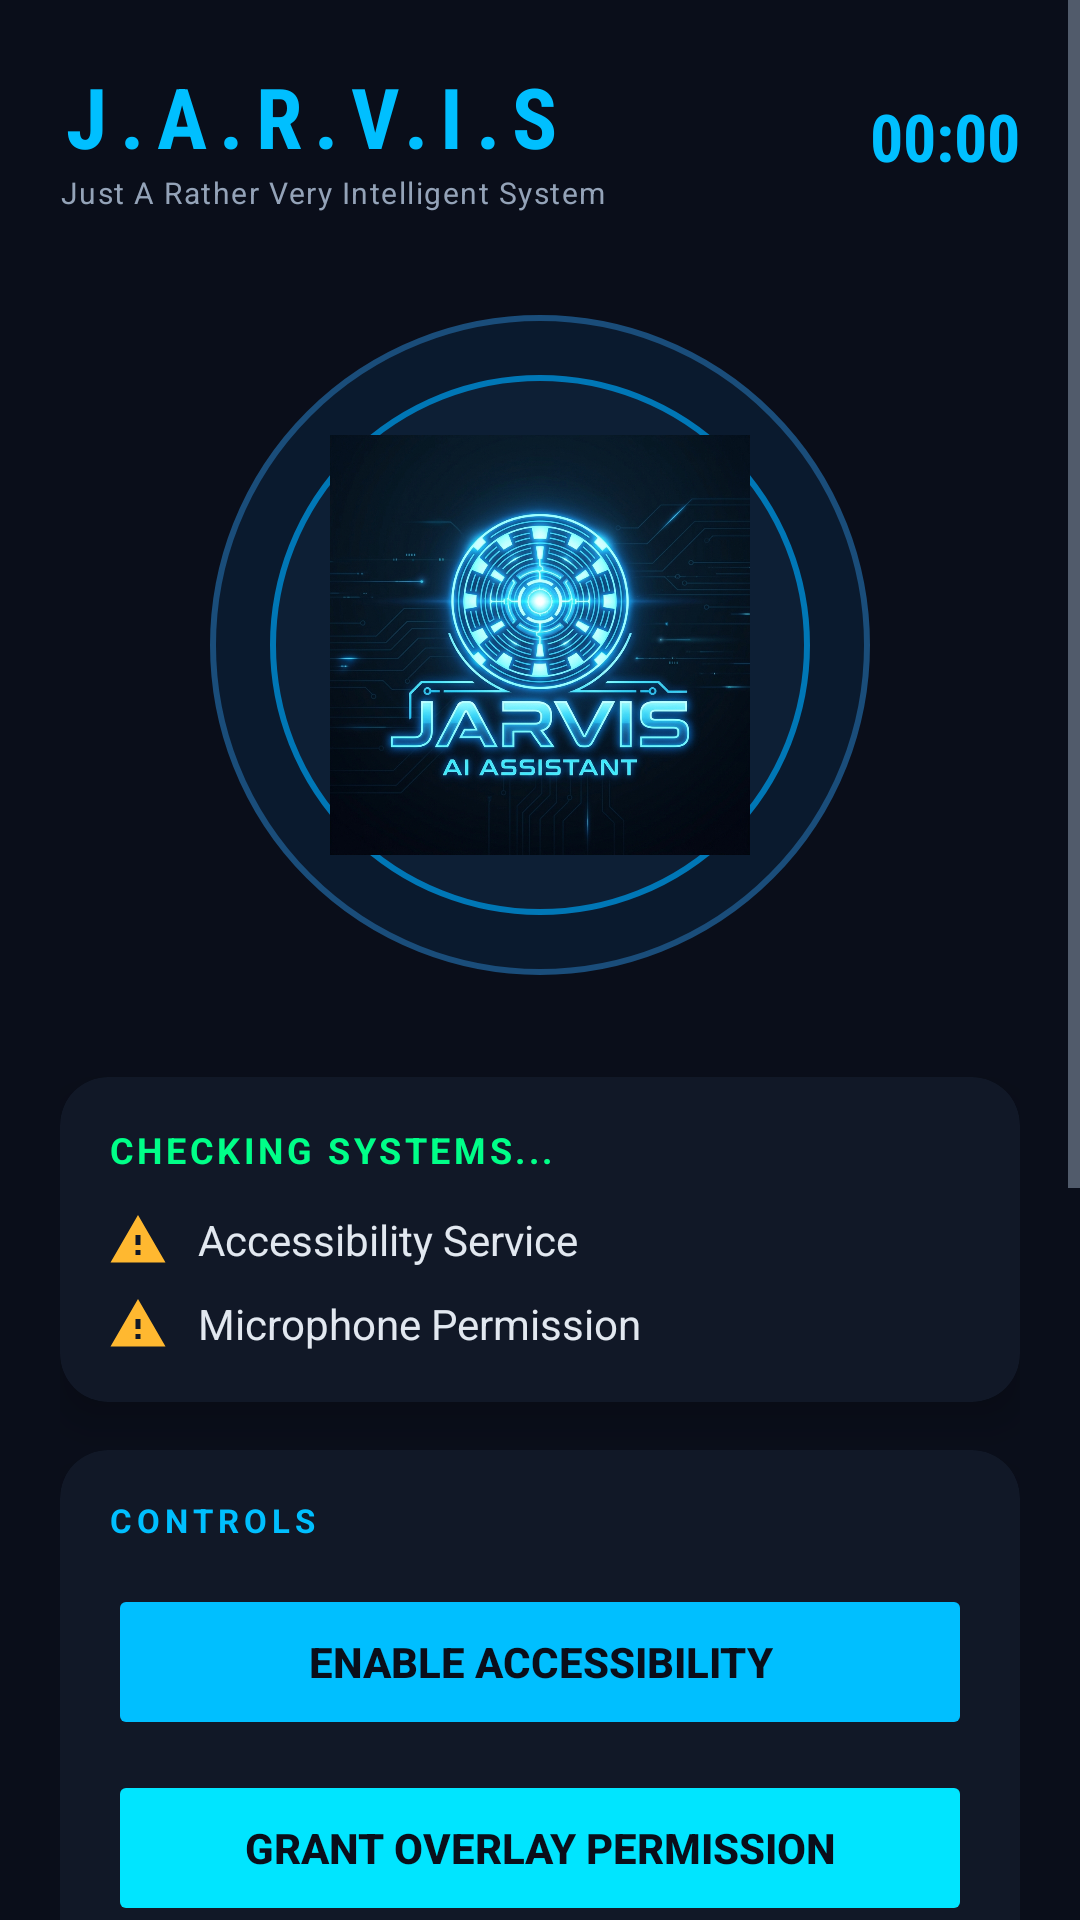

Locate icon controls on the screen. Image size 1080*1920, boxes as {"x1": x1, "y1": y1, "x2": x2, "y2": y2}.
Accessibility status: {"x1": 110, "y1": 1215, "x2": 166, "y2": 1263}
Microphone status: {"x1": 110, "y1": 1299, "x2": 166, "y2": 1347}
